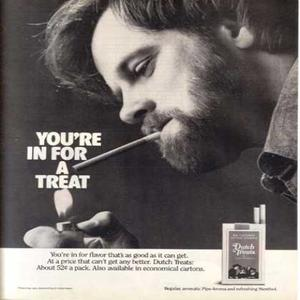cigarette: (69, 129, 164, 170)
